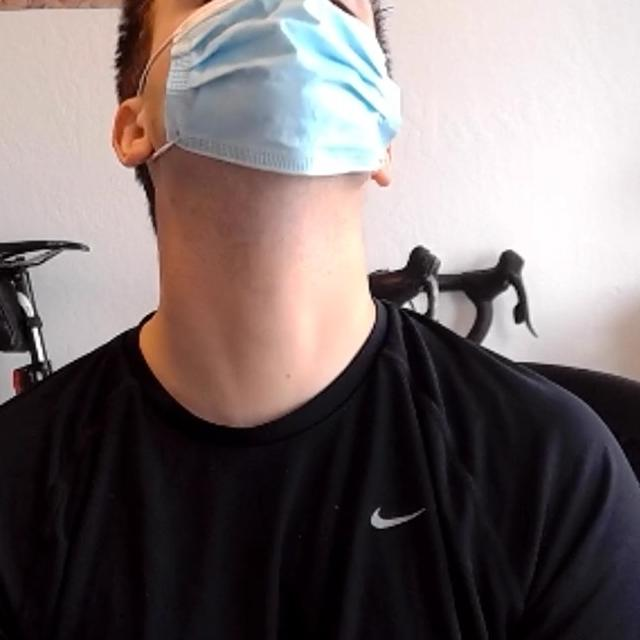Mask: (127, 0, 396, 180)
NO-Safety Vest: (0, 320, 545, 640)
Person: (0, 0, 640, 640)
